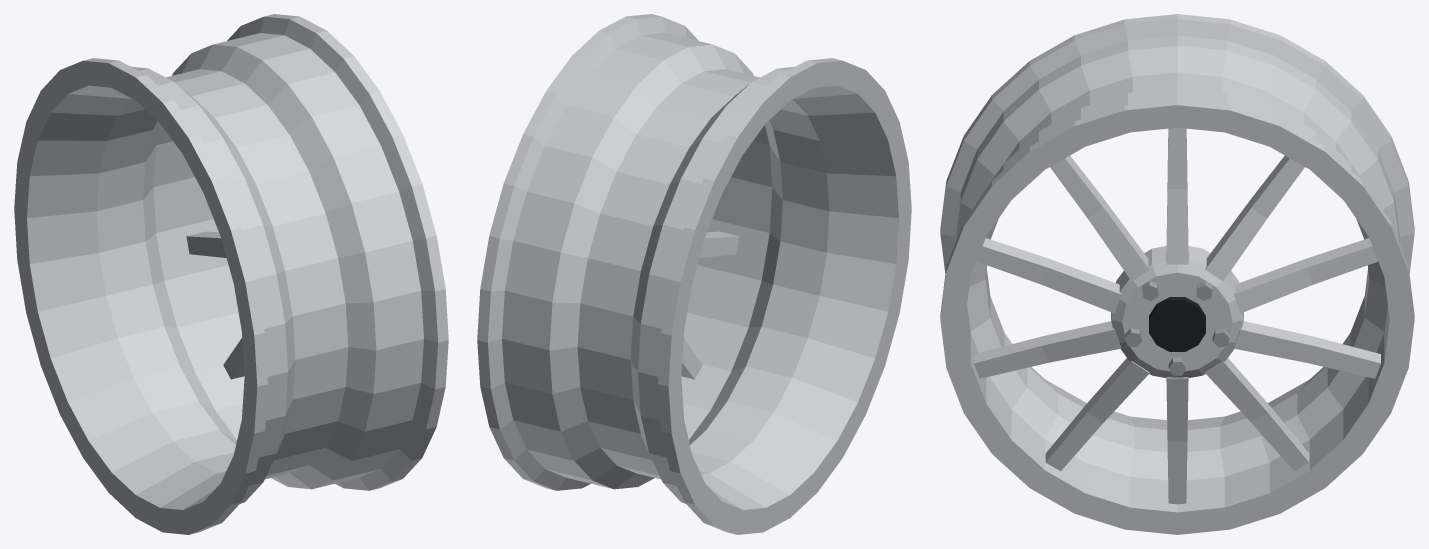
The model's file is rim_10spoke_19.glb.
The picture shows the model from 3 angles, left to right: view 1: azimuth 30°, elevation 25°; view 2: azimuth 150°, elevation 25°; view 3: azimuth 270°, elevation 25°; orthographic projection. The views are drawn at different scales.
Visible parts, largest first — view 1: model; view 2: model; view 3: model.
Boxes of the visible parts, x1=… form: model: x1=14, y1=14, x2=448, y2=534; model: x1=477, y1=14, x2=911, y2=534; model: x1=940, y1=14, x2=1414, y2=534.
Bounding box in the file's own units: 0.2519 × 0.5146 × 0.5146.
3 materials, 1 textured.
